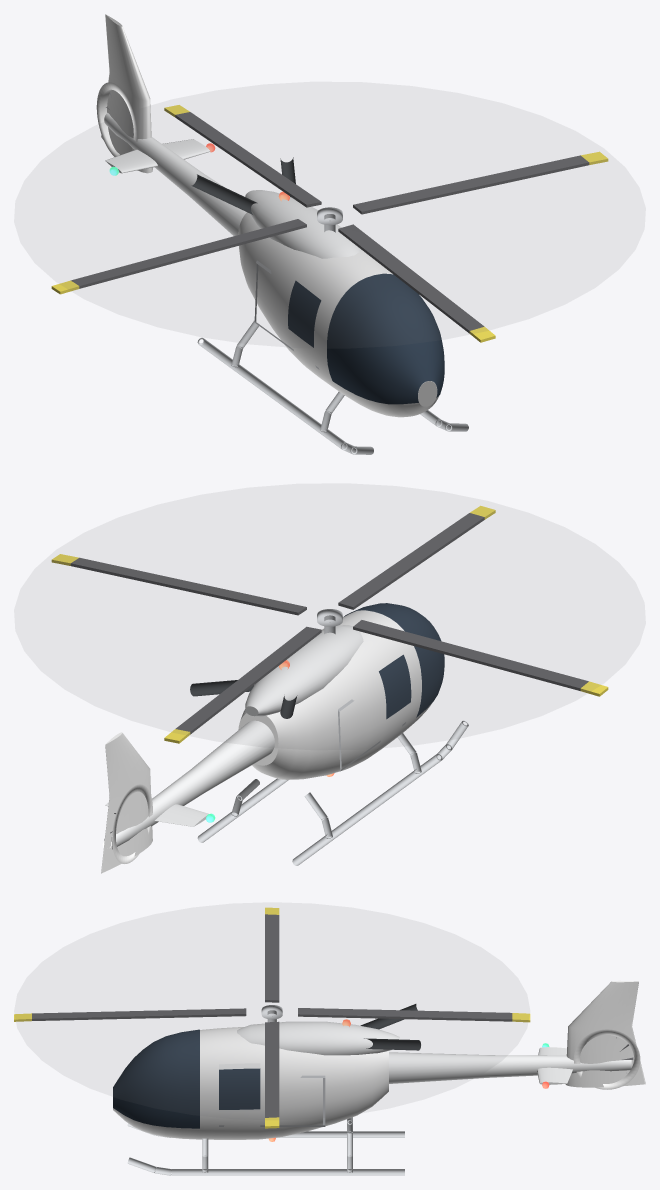
The picture shows the model from 3 angles, top to bottom: view 1: azimuth 30°, elevation 25°; view 2: azimuth 150°, elevation 25°; view 3: azimuth 270°, elevation 25°; orthographic projection. The views are drawn at different scales.
Parts seen in each view (by area): view 1: airframe, rotor; view 2: airframe, rotor; view 3: airframe, rotor.
Part boxes in pixels (x1=…): airframe: x1=96, y1=14, x2=468, y2=454; rotor: x1=51, y1=105, x2=608, y2=342; airframe: x1=101, y1=603, x2=468, y2=873; rotor: x1=51, y1=505, x2=608, y2=743; airframe: x1=113, y1=980, x2=645, y2=1175; rotor: x1=14, y1=907, x2=530, y2=1128.
Bounding box in the file's own units: 10.2 × 3.82 × 12.48.
